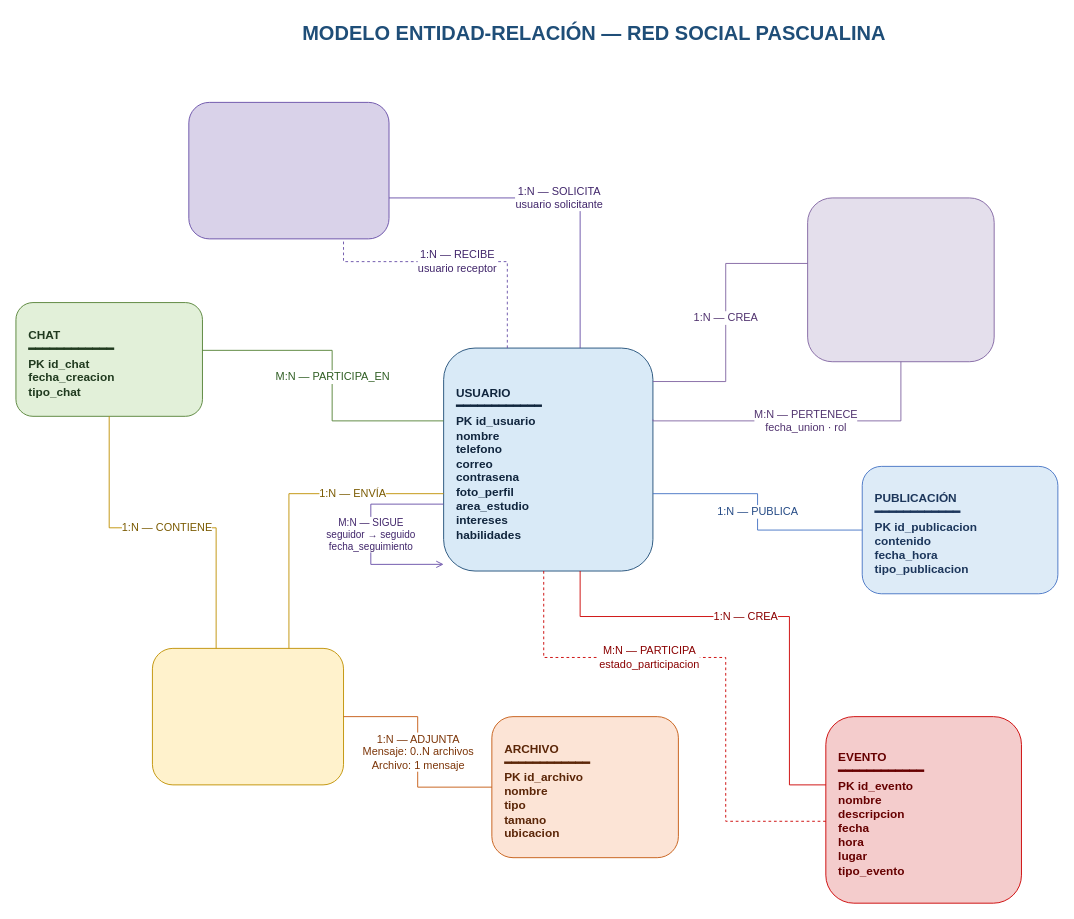
This 1074x919 diagram has some shape labels left out. Here are the shapes that lost their labels. From the top down, the box of each, then its label:
(188, 101, 389, 239): CONEXIÓN ━━━━━━━━━━━━ PK id_conexion fecha_solicitud estado fecha_conexion
(807, 197, 994, 362): GRUPO ━━━━━━━━━━━━ PK id_grupo nombre descripcion foto tipo_grupo fecha_creacion
(152, 647, 344, 785): MENSAJE ━━━━━━━━━━━━ PK id_mensaje contenido fecha_hora estado
